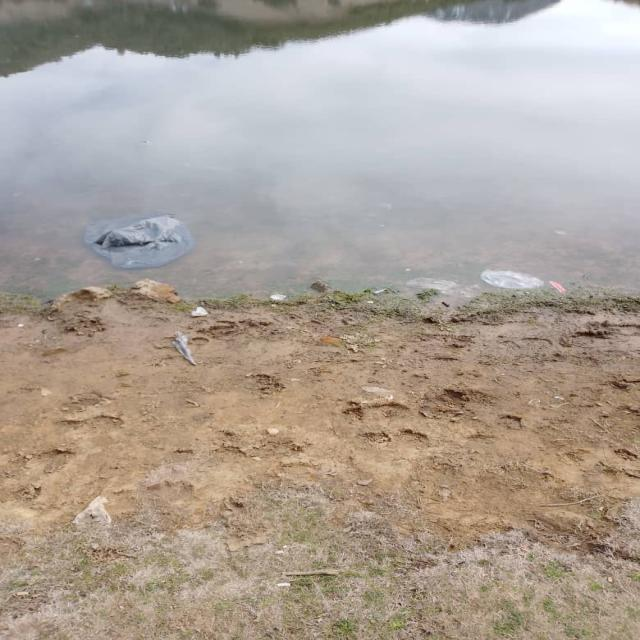Plastic bag: (76, 207, 196, 272), (402, 274, 483, 299), (479, 267, 547, 292)
